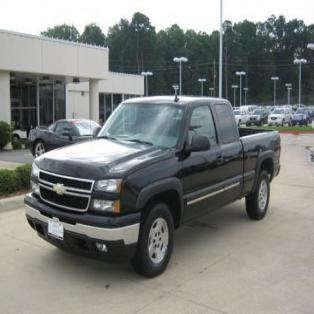Auto: (21, 91, 282, 280)
